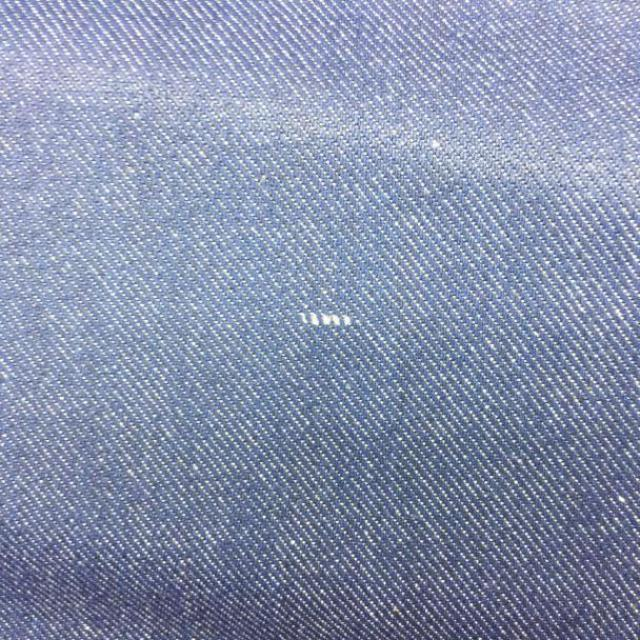Knot: (299, 313, 352, 327)
